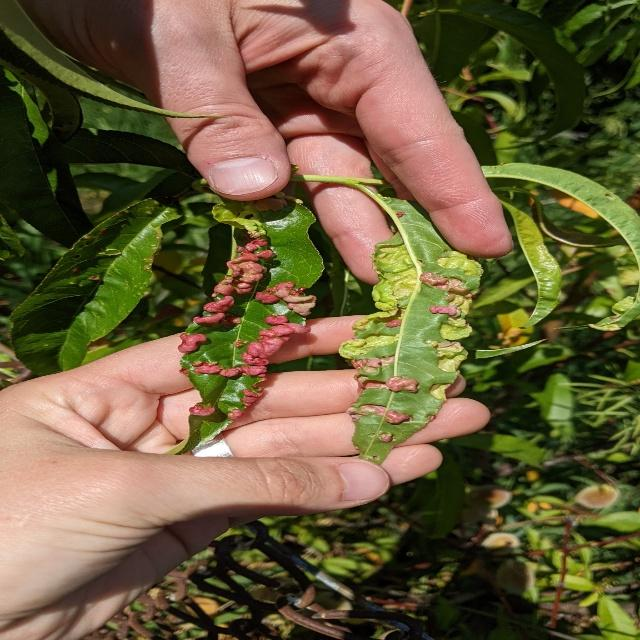leaf_curl: (114, 131, 534, 482)
